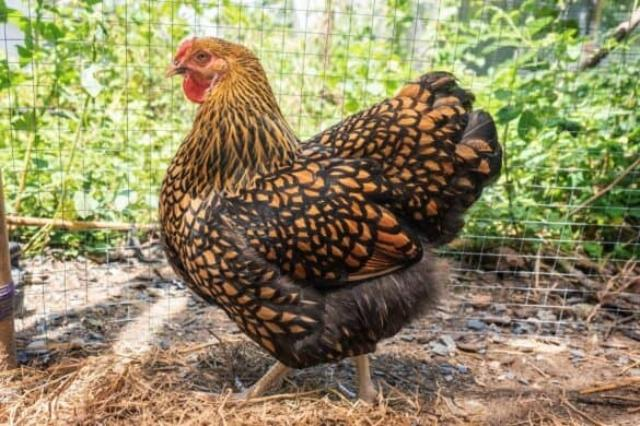Chicken: (158, 36, 502, 399)
